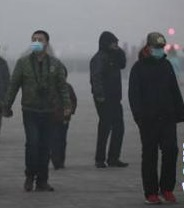person: (3, 29, 65, 194), (128, 31, 184, 206), (90, 30, 132, 167)
